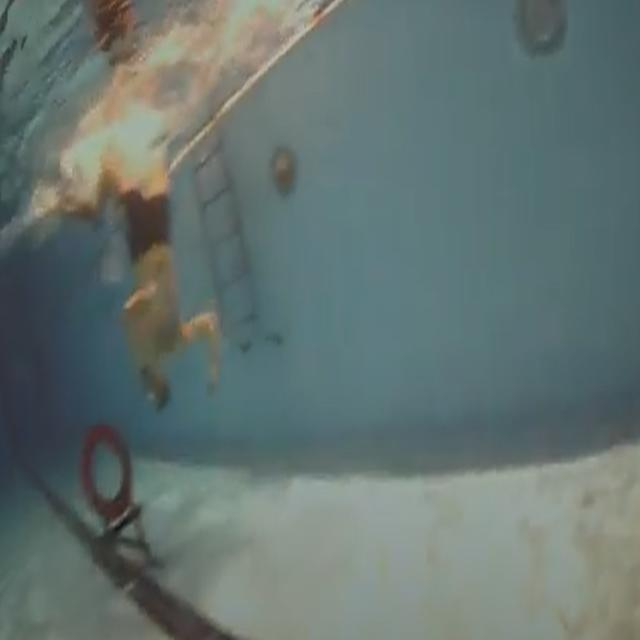Circle: (80, 426, 136, 520)
